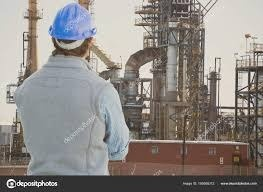helmet: (45, 1, 102, 43)
person with partial safety: (13, 2, 132, 176)
